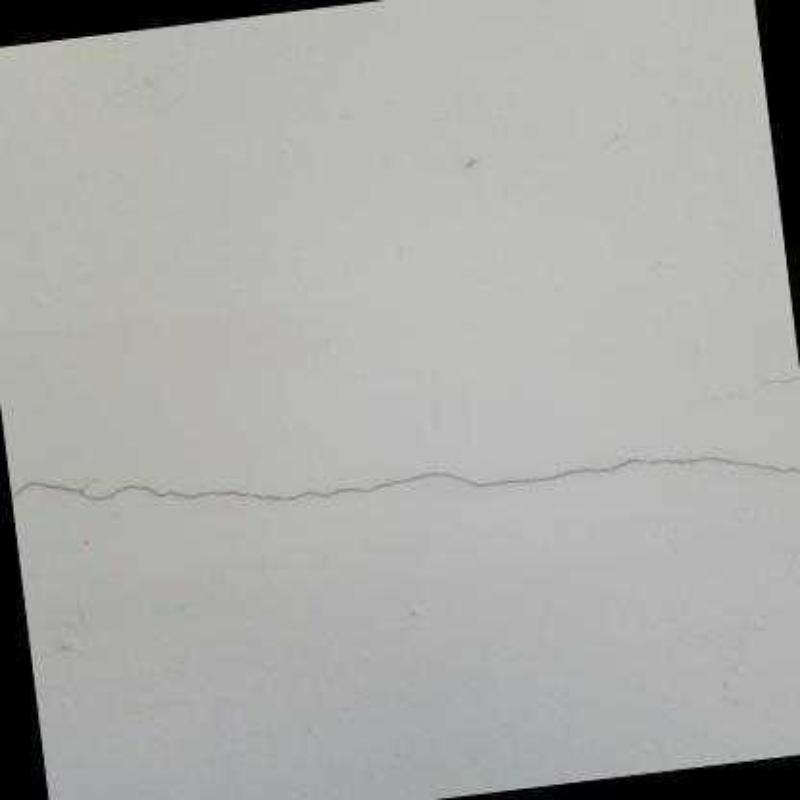pothole: (11, 457, 800, 500)
